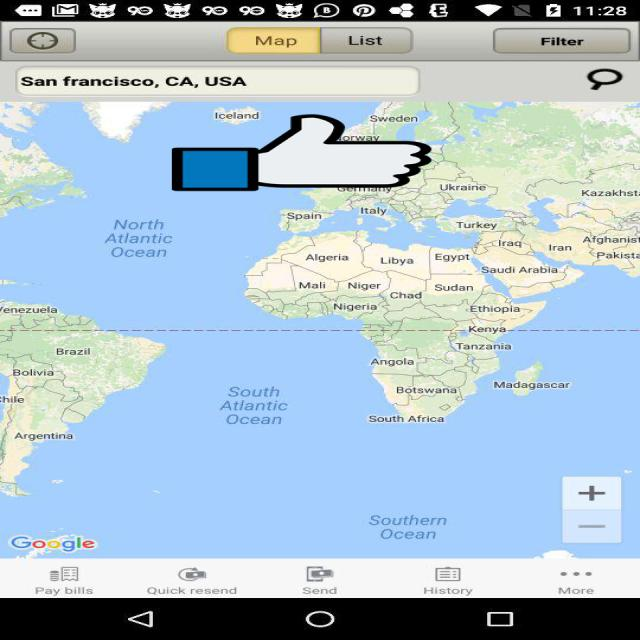privacy zuckering: (172, 112, 431, 192)
